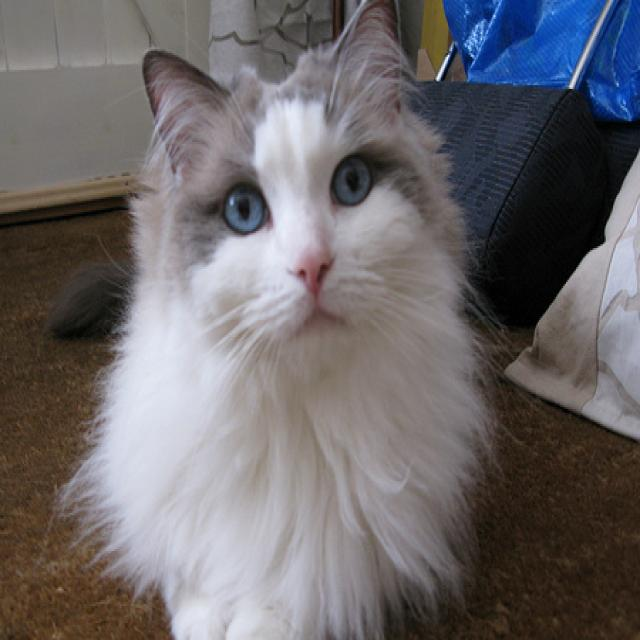Ragdoll: (48, 0, 491, 640)
